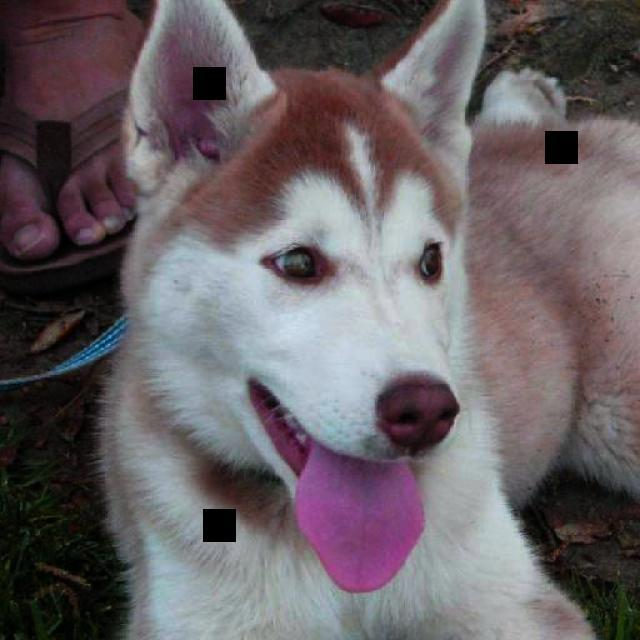puppy-dog: (103, 2, 640, 640)
